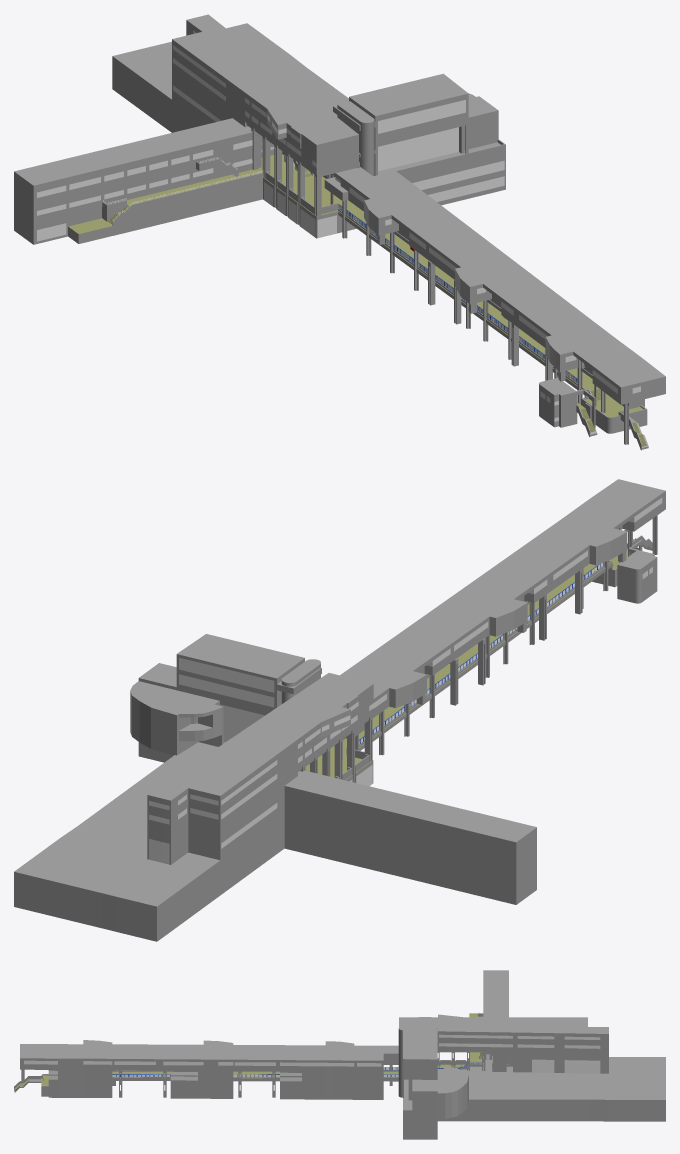
Rendered from Centrale_v1 1.fbx.
The picture shows the model from 3 angles, top to bottom: view 1: azimuth 30°, elevation 25°; view 2: azimuth 150°, elevation 25°; view 3: azimuth 270°, elevation 25°; orthographic projection. The views are drawn at different scales.
Visible parts, largest first — view 1: Cube.004, Cube.008, Cube.001, Cube.009, Cube.002, Cube.017, Cube.032, Cube.007, Cylinder, Cube.011, Cube.016; view 2: Cube.004, Cube.001, Cube.008, Cube.009, Cube.002, Cube.032, Cube.007, Cylinder, Cube.019, Cube.016, Cube.025; view 3: Cube.004, Cube.008, Cube.009, Cube.001, Cube.002, Cylinder.
Boxes of the visible parts, left/top/right/bottom form: Cube.004: left=112, top=14, right=358, bottom=178; Cube.008: left=324, top=167, right=665, bottom=409; Cube.001: left=14, top=118, right=261, bottom=244; Cube.009: left=333, top=73, right=505, bottom=205; Cube.002: left=68, top=154, right=598, bottom=395; Cube.017: left=112, top=172, right=263, bottom=235; Cube.032: left=539, top=378, right=595, bottom=428; Cube.007: left=251, top=127, right=330, bottom=225; Cylinder: left=337, top=100, right=374, bottom=176; Cube.011: left=581, top=394, right=647, bottom=433; Cube.016: left=342, top=200, right=418, bottom=290; Cube.004: left=14, top=673, right=373, bottom=941; Cube.001: left=284, top=770, right=536, bottom=904; Cube.008: left=340, top=479, right=665, bottom=738; Cube.009: left=130, top=634, right=321, bottom=762; Cube.002: left=305, top=562, right=612, bottom=786; Cube.032: left=617, top=539, right=657, bottom=603; Cube.007: left=300, top=729, right=354, bottom=782; Cylinder: left=281, top=659, right=320, bottom=703; Cube.019: left=449, top=638, right=485, bottom=705; Cube.016: left=355, top=674, right=434, bottom=755; Cube.025: left=539, top=569, right=582, bottom=640; Cube.004: left=399, top=1014, right=665, bottom=1121; Cube.008: left=20, top=1040, right=398, bottom=1099; Cube.009: left=403, top=1028, right=468, bottom=1139; Cube.001: left=483, top=970, right=508, bottom=1059; Cube.002: left=112, top=1013, right=482, bottom=1081; Cylinder: left=398, top=1026, right=437, bottom=1097.
Bounding box in the file's own units: 3961 × 1003 × 8331.
